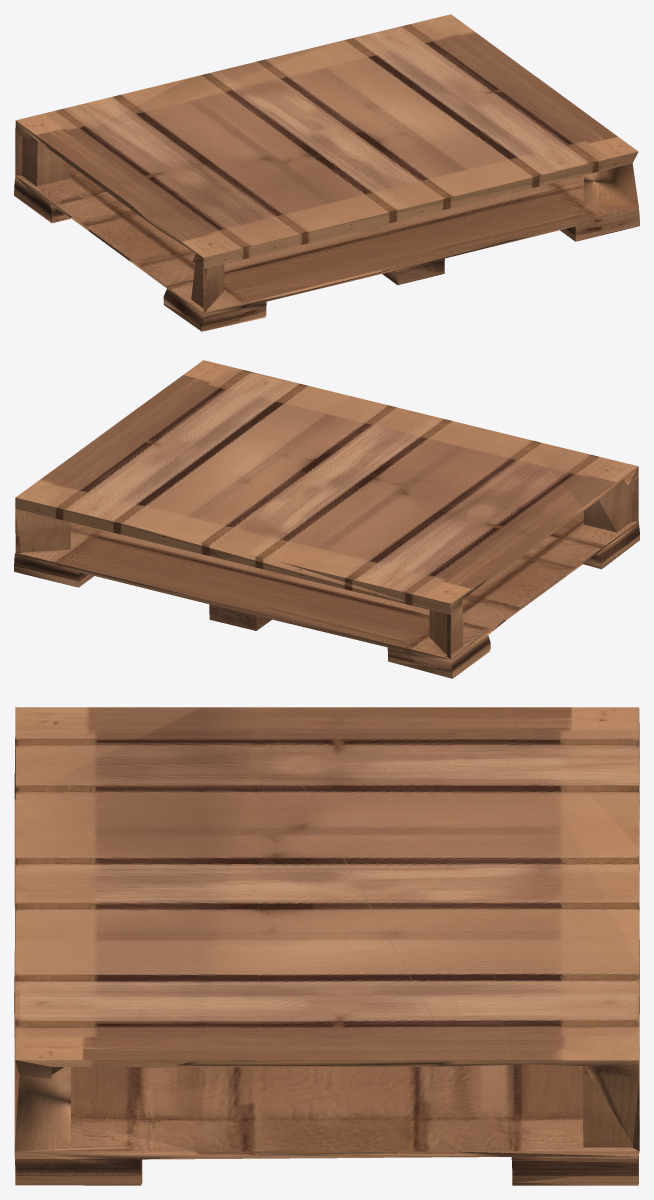
File: PR_LoadingPallet.fbx
3 renders of one model, top to bottom at view 1: azimuth 30°, elevation 25°; view 2: azimuth 150°, elevation 25°; view 3: azimuth 270°, elevation 25°, orthographic. The views are drawn at different scales.
Parts seen in each view (by area): view 1: Mesh_0; view 2: Mesh_0; view 3: Mesh_0.
Part boxes in pixels (bbox=[...]): Mesh_0: bbox=[14, 14, 639, 331]; Mesh_0: bbox=[14, 360, 639, 678]; Mesh_0: bbox=[14, 707, 639, 1185].
Size of the model in its own units: 190 by 30.94 by 141.
1 material, 1 textured.
